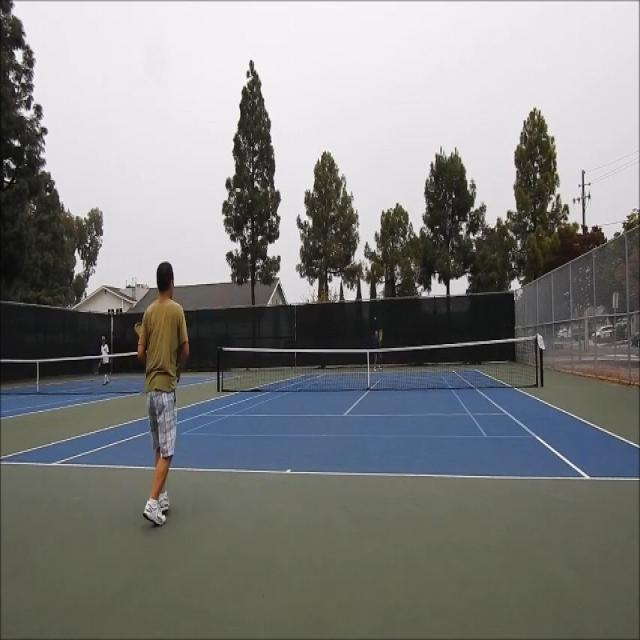court: (0, 370, 640, 480)
net: (217, 335, 546, 393)
player: (134, 261, 190, 526)
